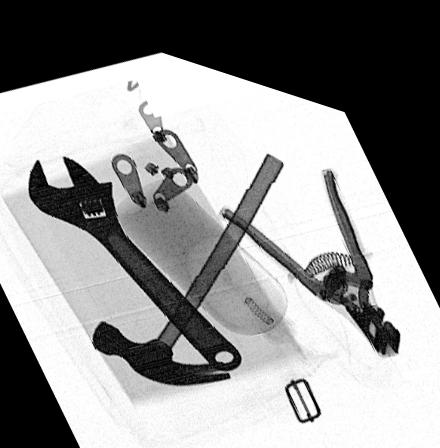Hammer: (89, 136, 285, 373)
Pliers: (216, 145, 401, 335)
Wrench: (27, 153, 242, 359)
